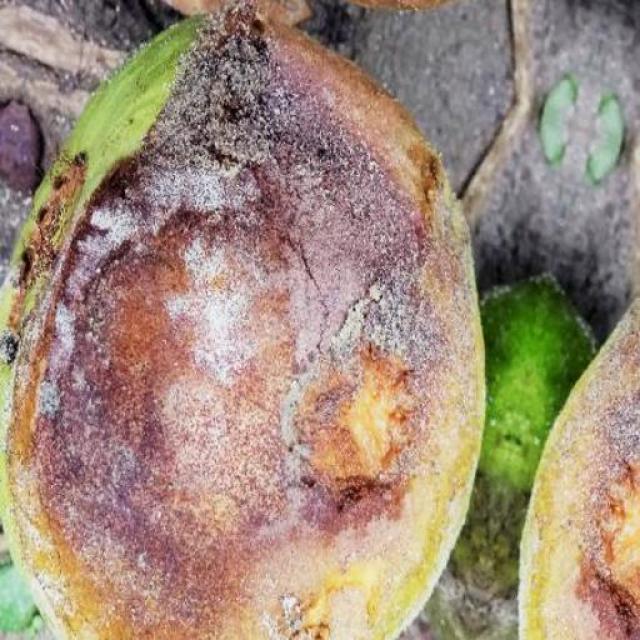Styler_Root: (0, 2, 482, 640)
